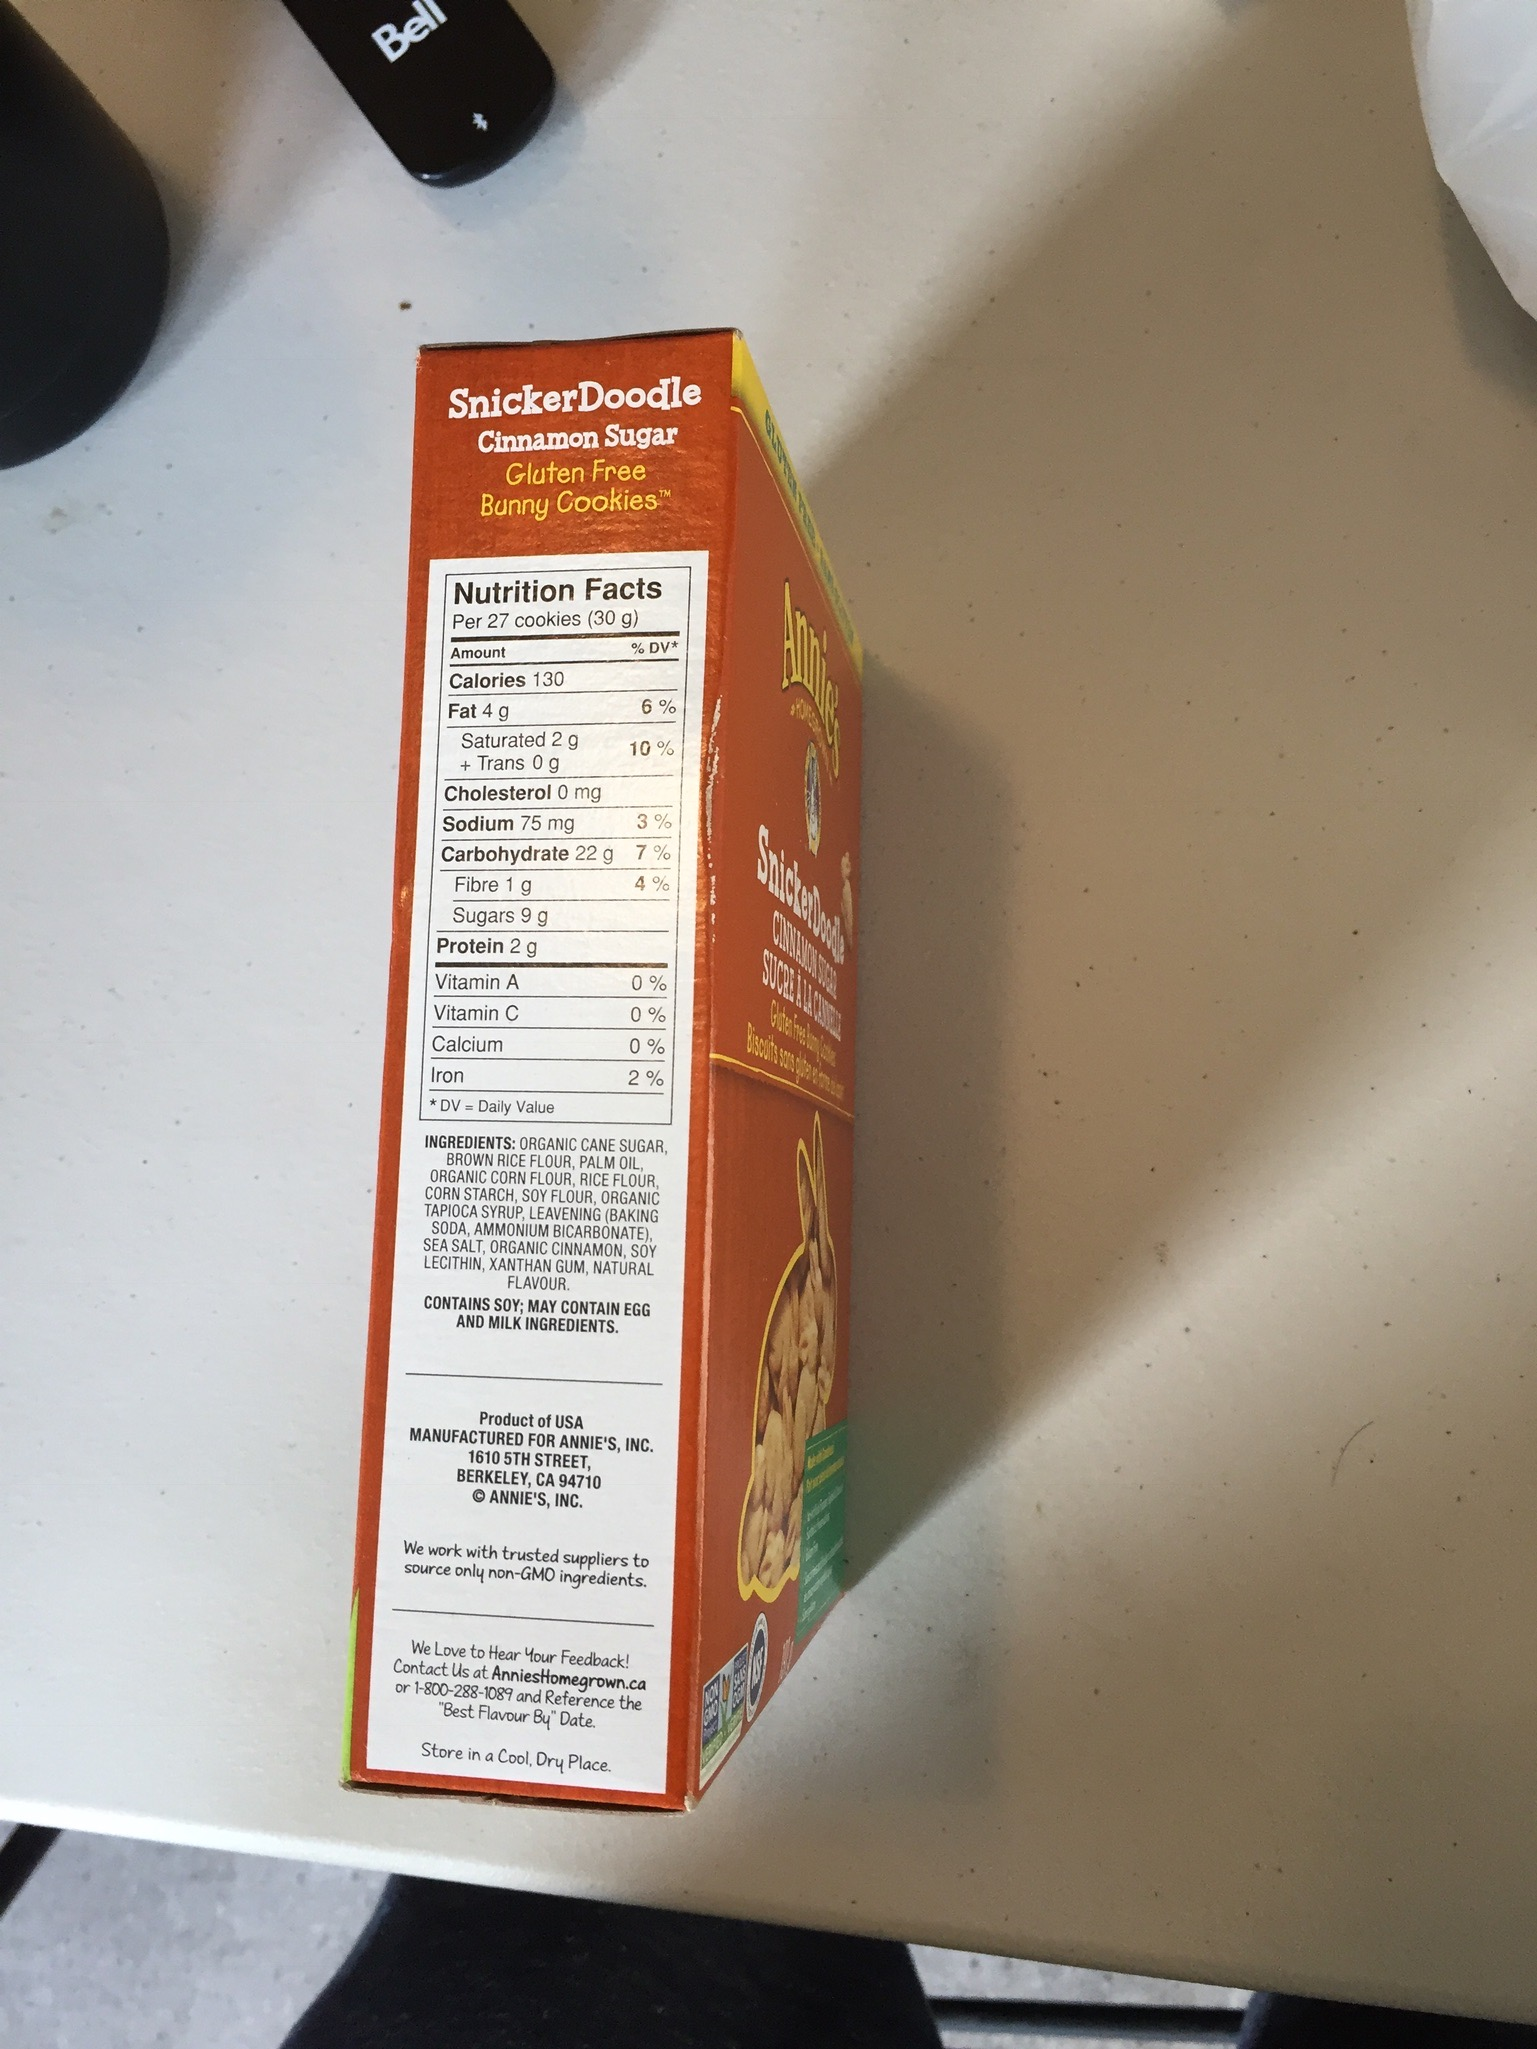annies_snickerdoodle_cinnamon_sugar: (426, 355, 739, 1779)
